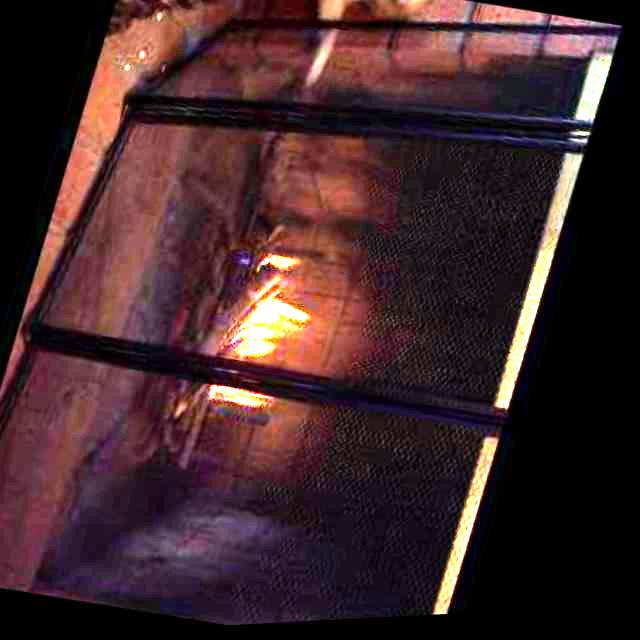fire: (212, 244, 344, 428)
